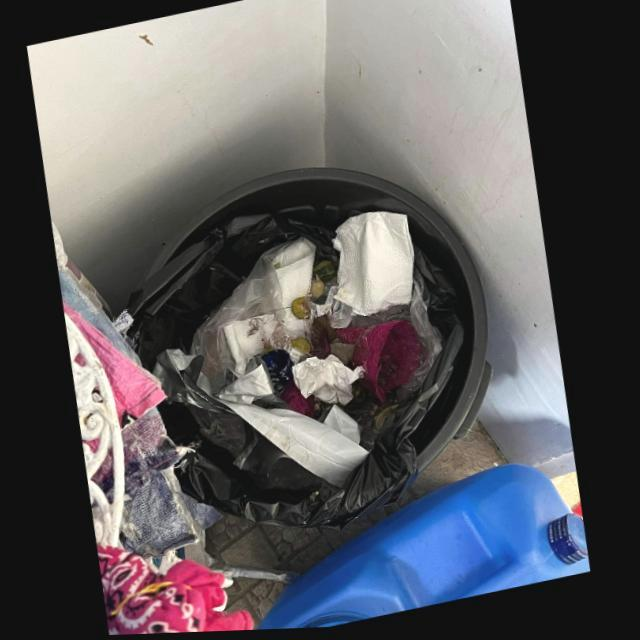paper: (336, 214, 415, 319), (273, 239, 318, 340), (295, 358, 367, 408)
